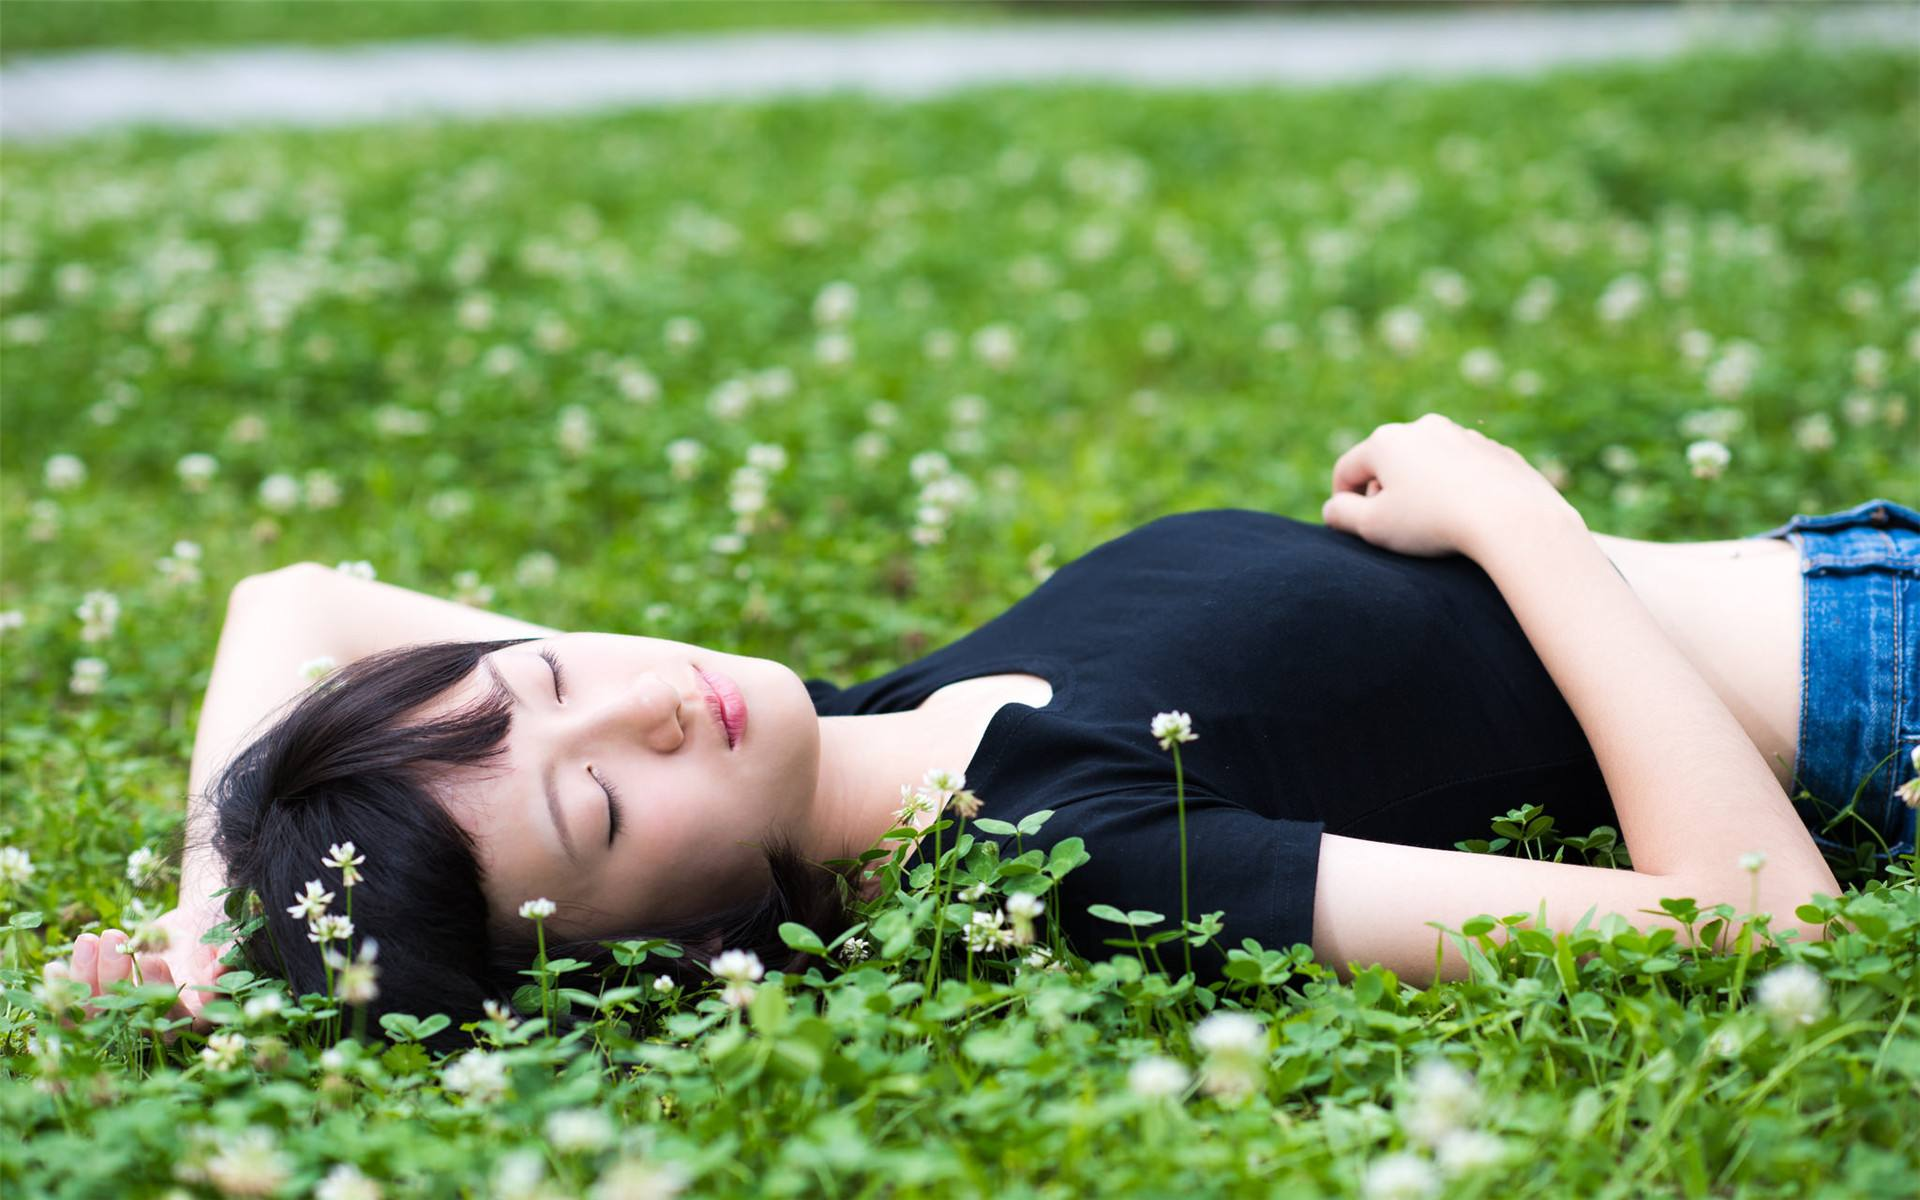person: (108, 488, 1920, 1020)
